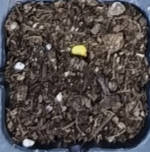chilli seed: (70, 44, 86, 56)
